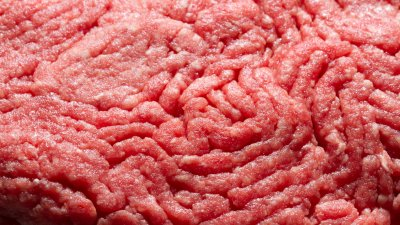ground_beef: (2, 3, 400, 220)
